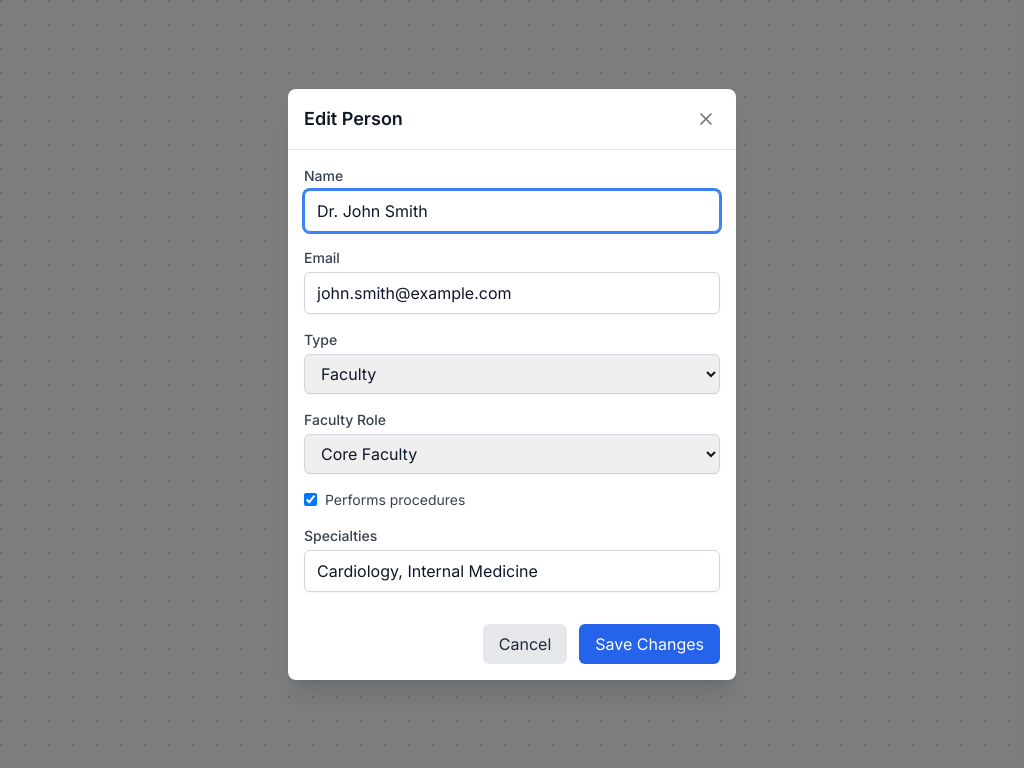
Test: EditPersonModal › Form Behavior › should show PGY level when switching back to resident
Expected: the field labelled "pgy level" is not shown
Note: Switch to resident
Select "Resident" in the dropdown labelled "Type" at (512, 374), box [304, 354, 720, 394]
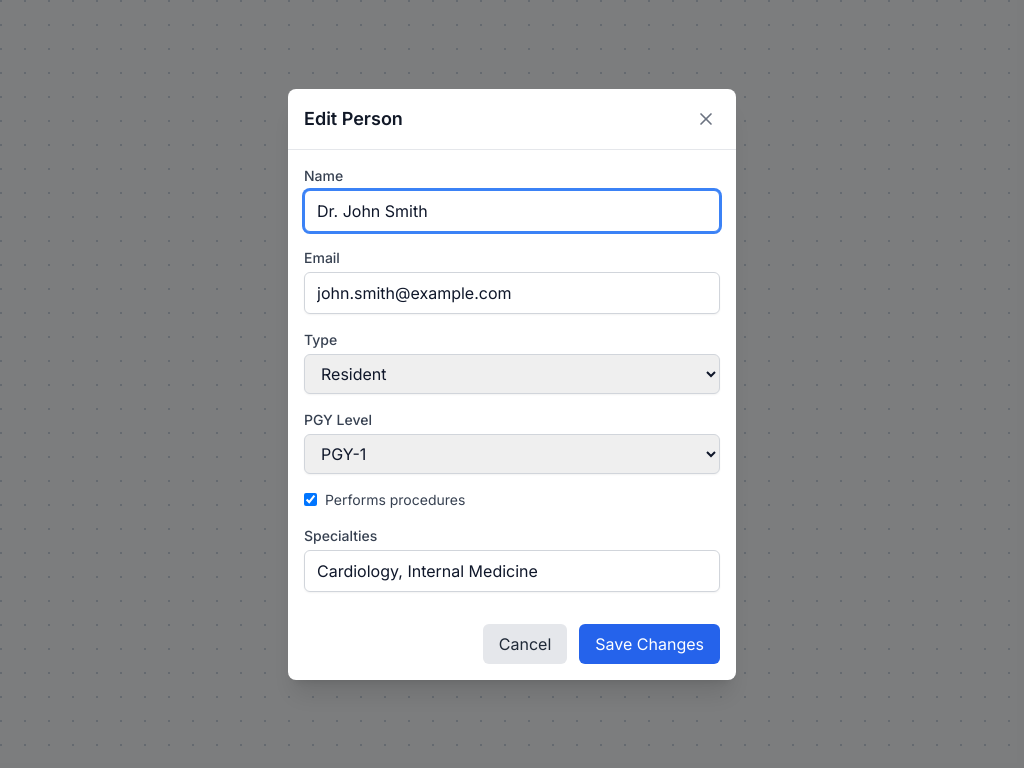
Now the dropdown labelled "PGY Level" is shown, box [304, 434, 720, 474]
